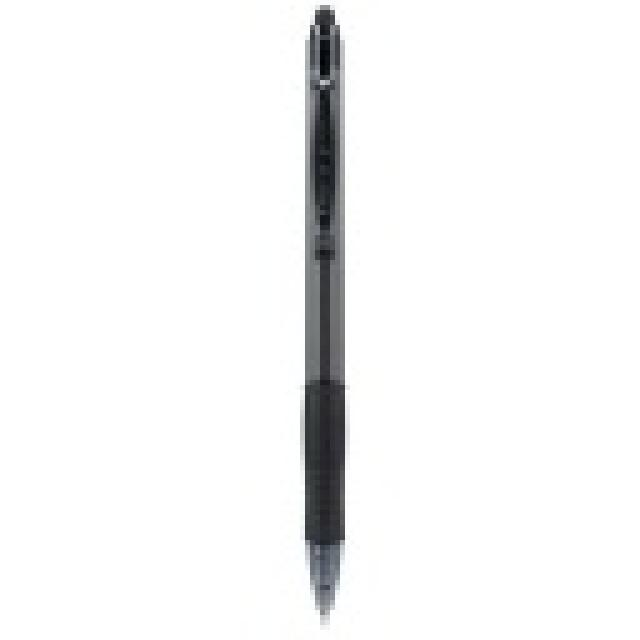pen: (292, 1, 365, 626)
